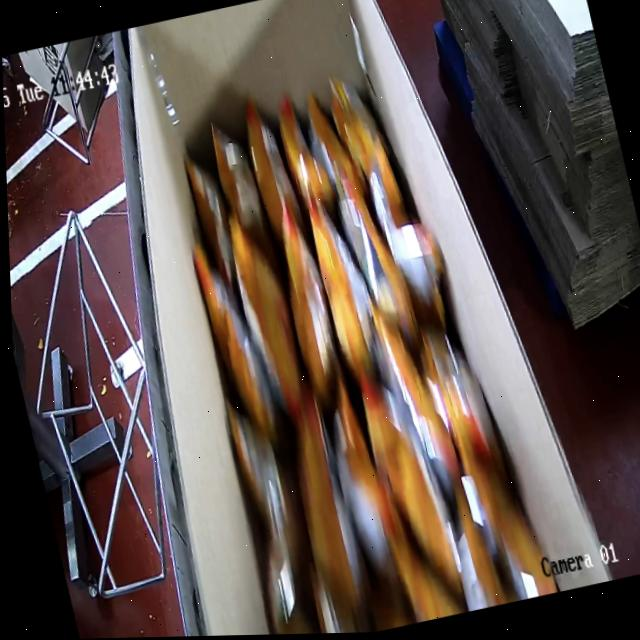FRENCH_CHEESE: (143, 21, 612, 637)
